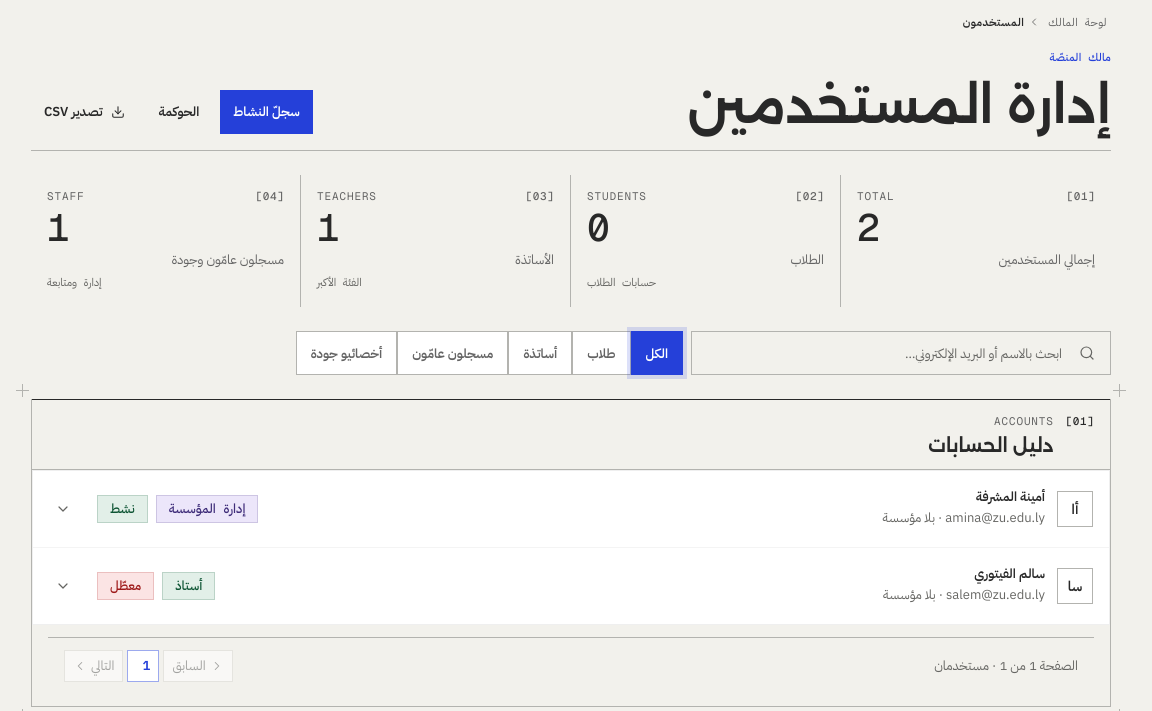
Test: r305-A8 — the users directory separates high-impact verbs (visual only) › the REACTIVATION verb (suspended account → enable) stays a quiet outline verb
Expected: the text "سالم الفيتوري" is shown, [974, 564, 1045, 583]
Click the button named "إجراءات سالم الفيتوري": (63, 586) [41, 564, 85, 608]
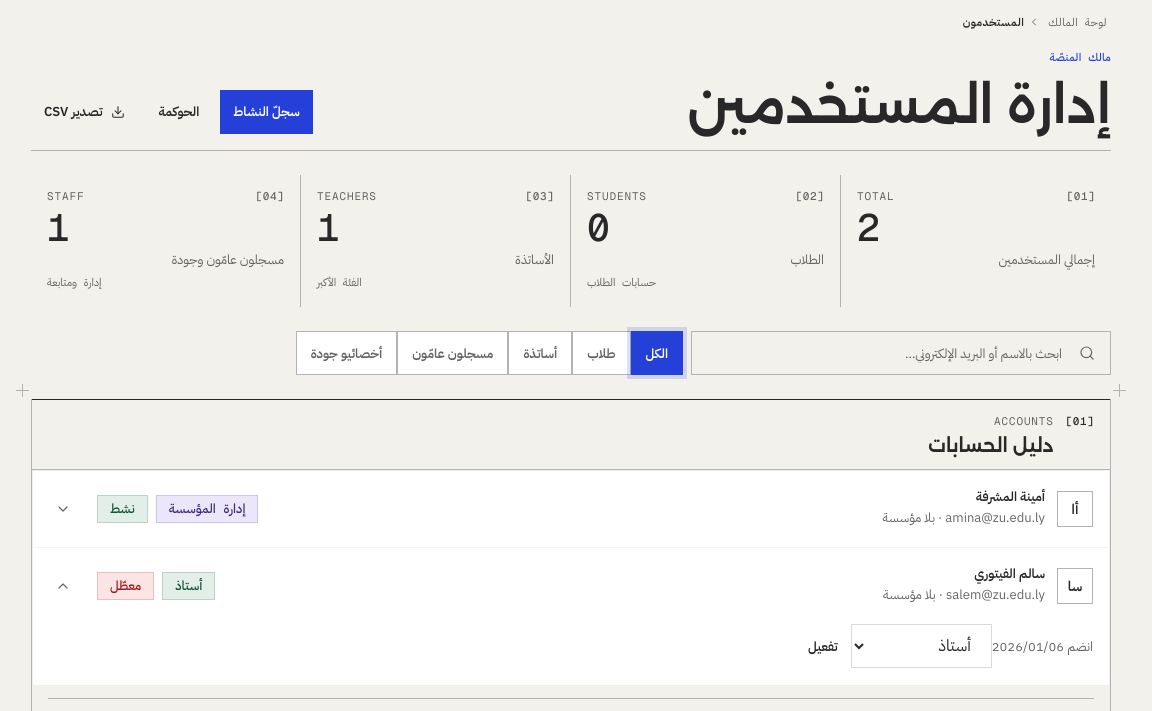
Now the button "تفعيل" is shown, box [795, 625, 851, 669]
